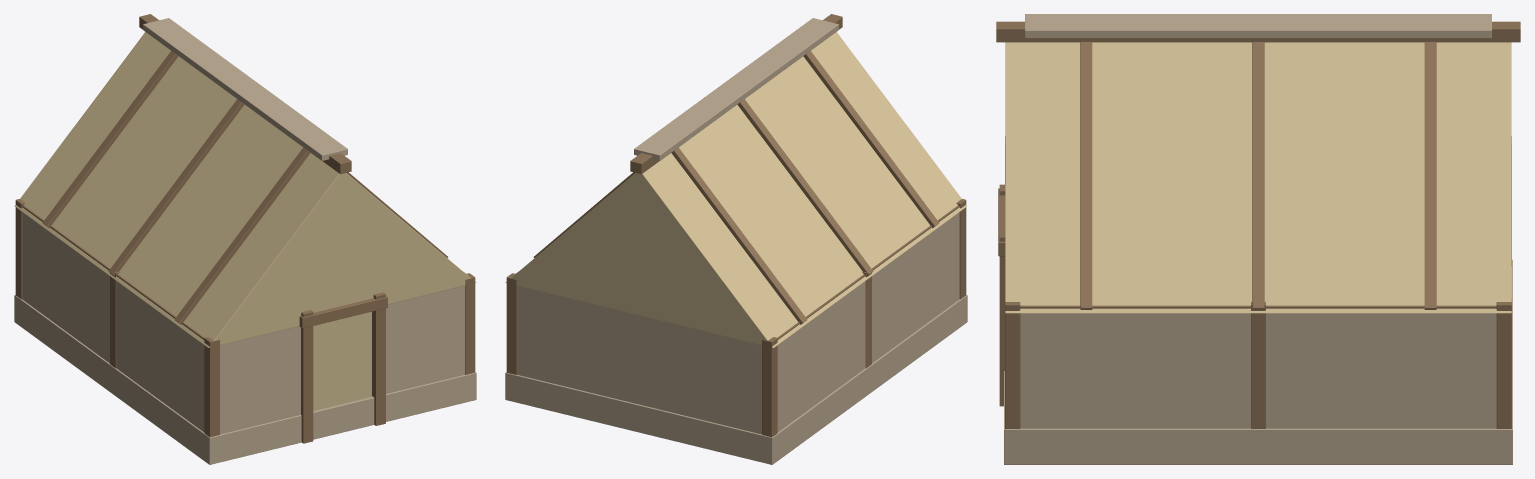
The model's file is House_Paleo_b.glb.
3 renders of one model, left to right at view 1: azimuth 30°, elevation 25°; view 2: azimuth 150°, elevation 25°; view 3: azimuth 270°, elevation 25°, orthographic. The views are drawn at different scales.
Visible parts, largest first — view 1: House_Paleo_b; view 2: House_Paleo_b; view 3: House_Paleo_b.
Part boxes in pixels (left/top/right/bottom): House_Paleo_b: left=14, top=14, right=476, bottom=464; House_Paleo_b: left=505, top=14, right=967, bottom=464; House_Paleo_b: left=996, top=14, right=1520, bottom=464.
Size of what is drawn, in the model's own units: 3.72 by 3.62 by 4.8.
